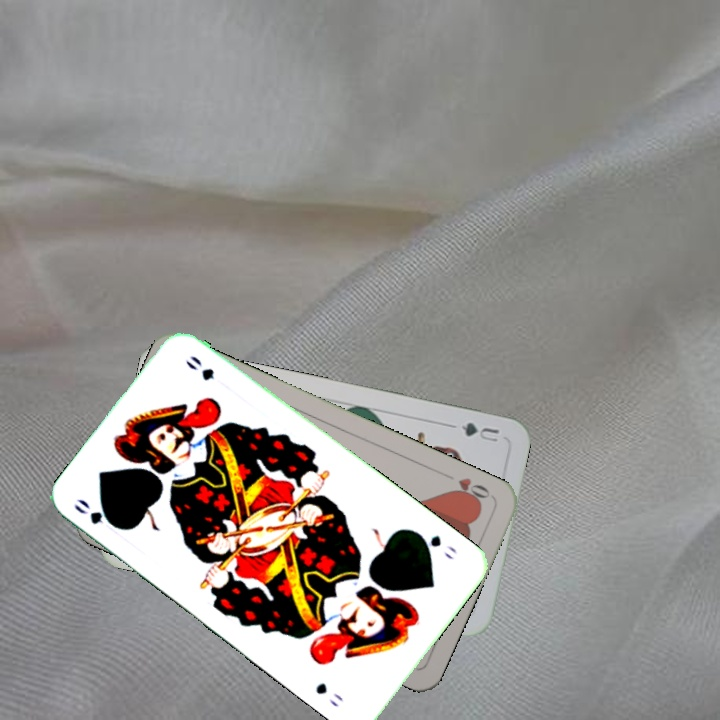GO: (70, 494, 124, 532), (412, 528, 460, 563)
GU: (457, 418, 502, 445)
HO: (446, 473, 493, 507)
